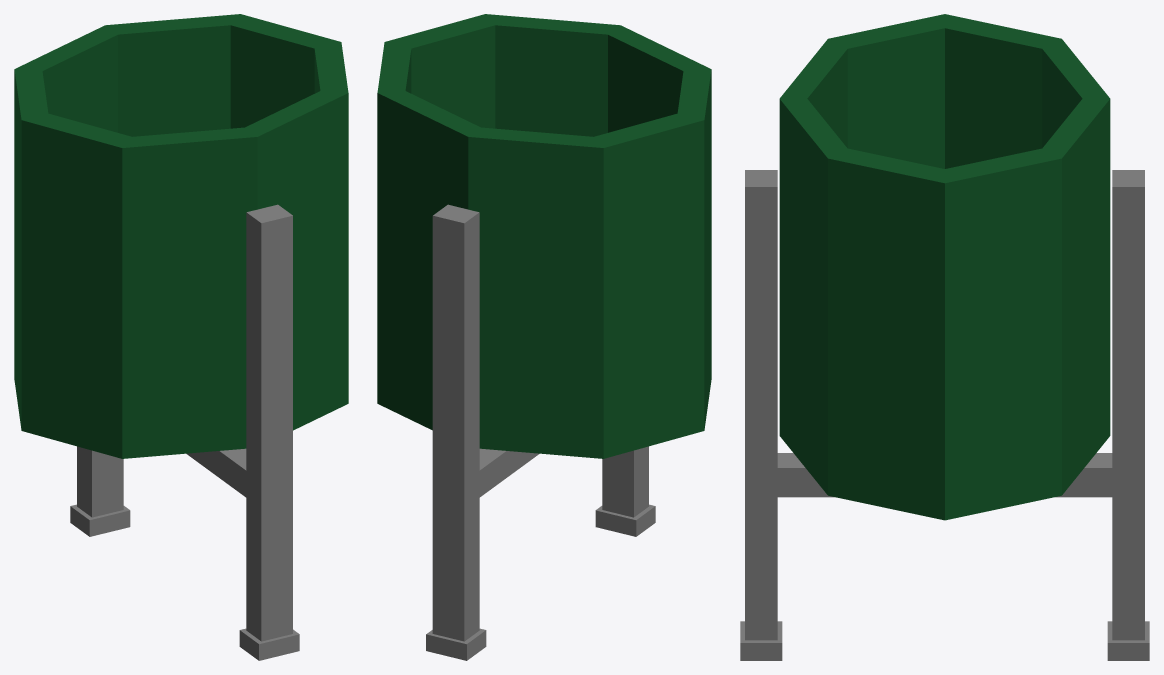
The model's file is Papelera.fbx.
3 views of the same model, side by side, from view 1: azimuth 30°, elevation 25°; view 2: azimuth 150°, elevation 25°; view 3: azimuth 270°, elevation 25° (orthographic). The views are drawn at different scales.
Visible parts, largest first — view 1: Papelera; view 2: Papelera; view 3: Papelera.
Part boxes in pixels (box(x1,y1,x2,y2)): Papelera: box(14, 14, 348, 660); Papelera: box(377, 14, 711, 660); Papelera: box(740, 14, 1149, 660).
Bounding box in the file's own units: 65.66 × 99.39 × 67.1.
